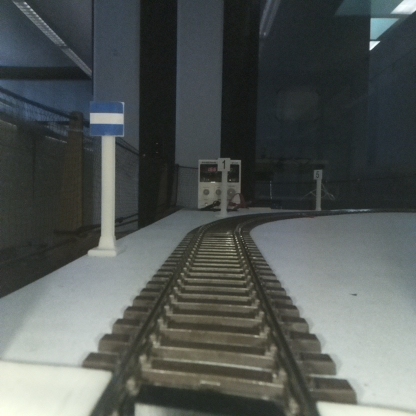start: (90, 102, 123, 256)
white-info-1: (218, 157, 230, 214)
